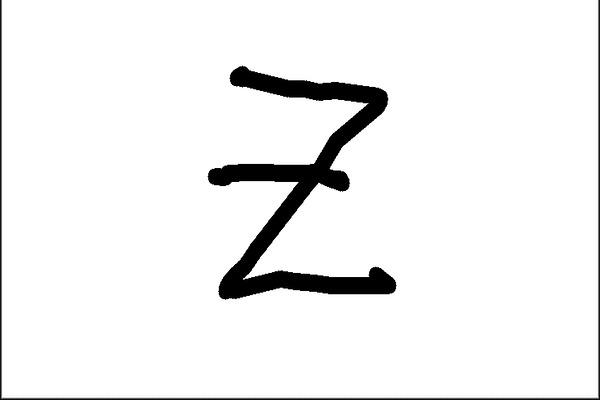Z: (203, 59, 430, 306)
